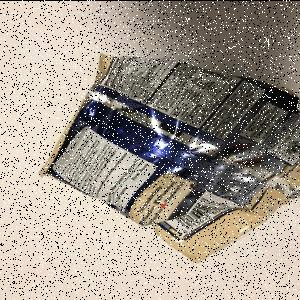Trash: (38, 52, 300, 266)
